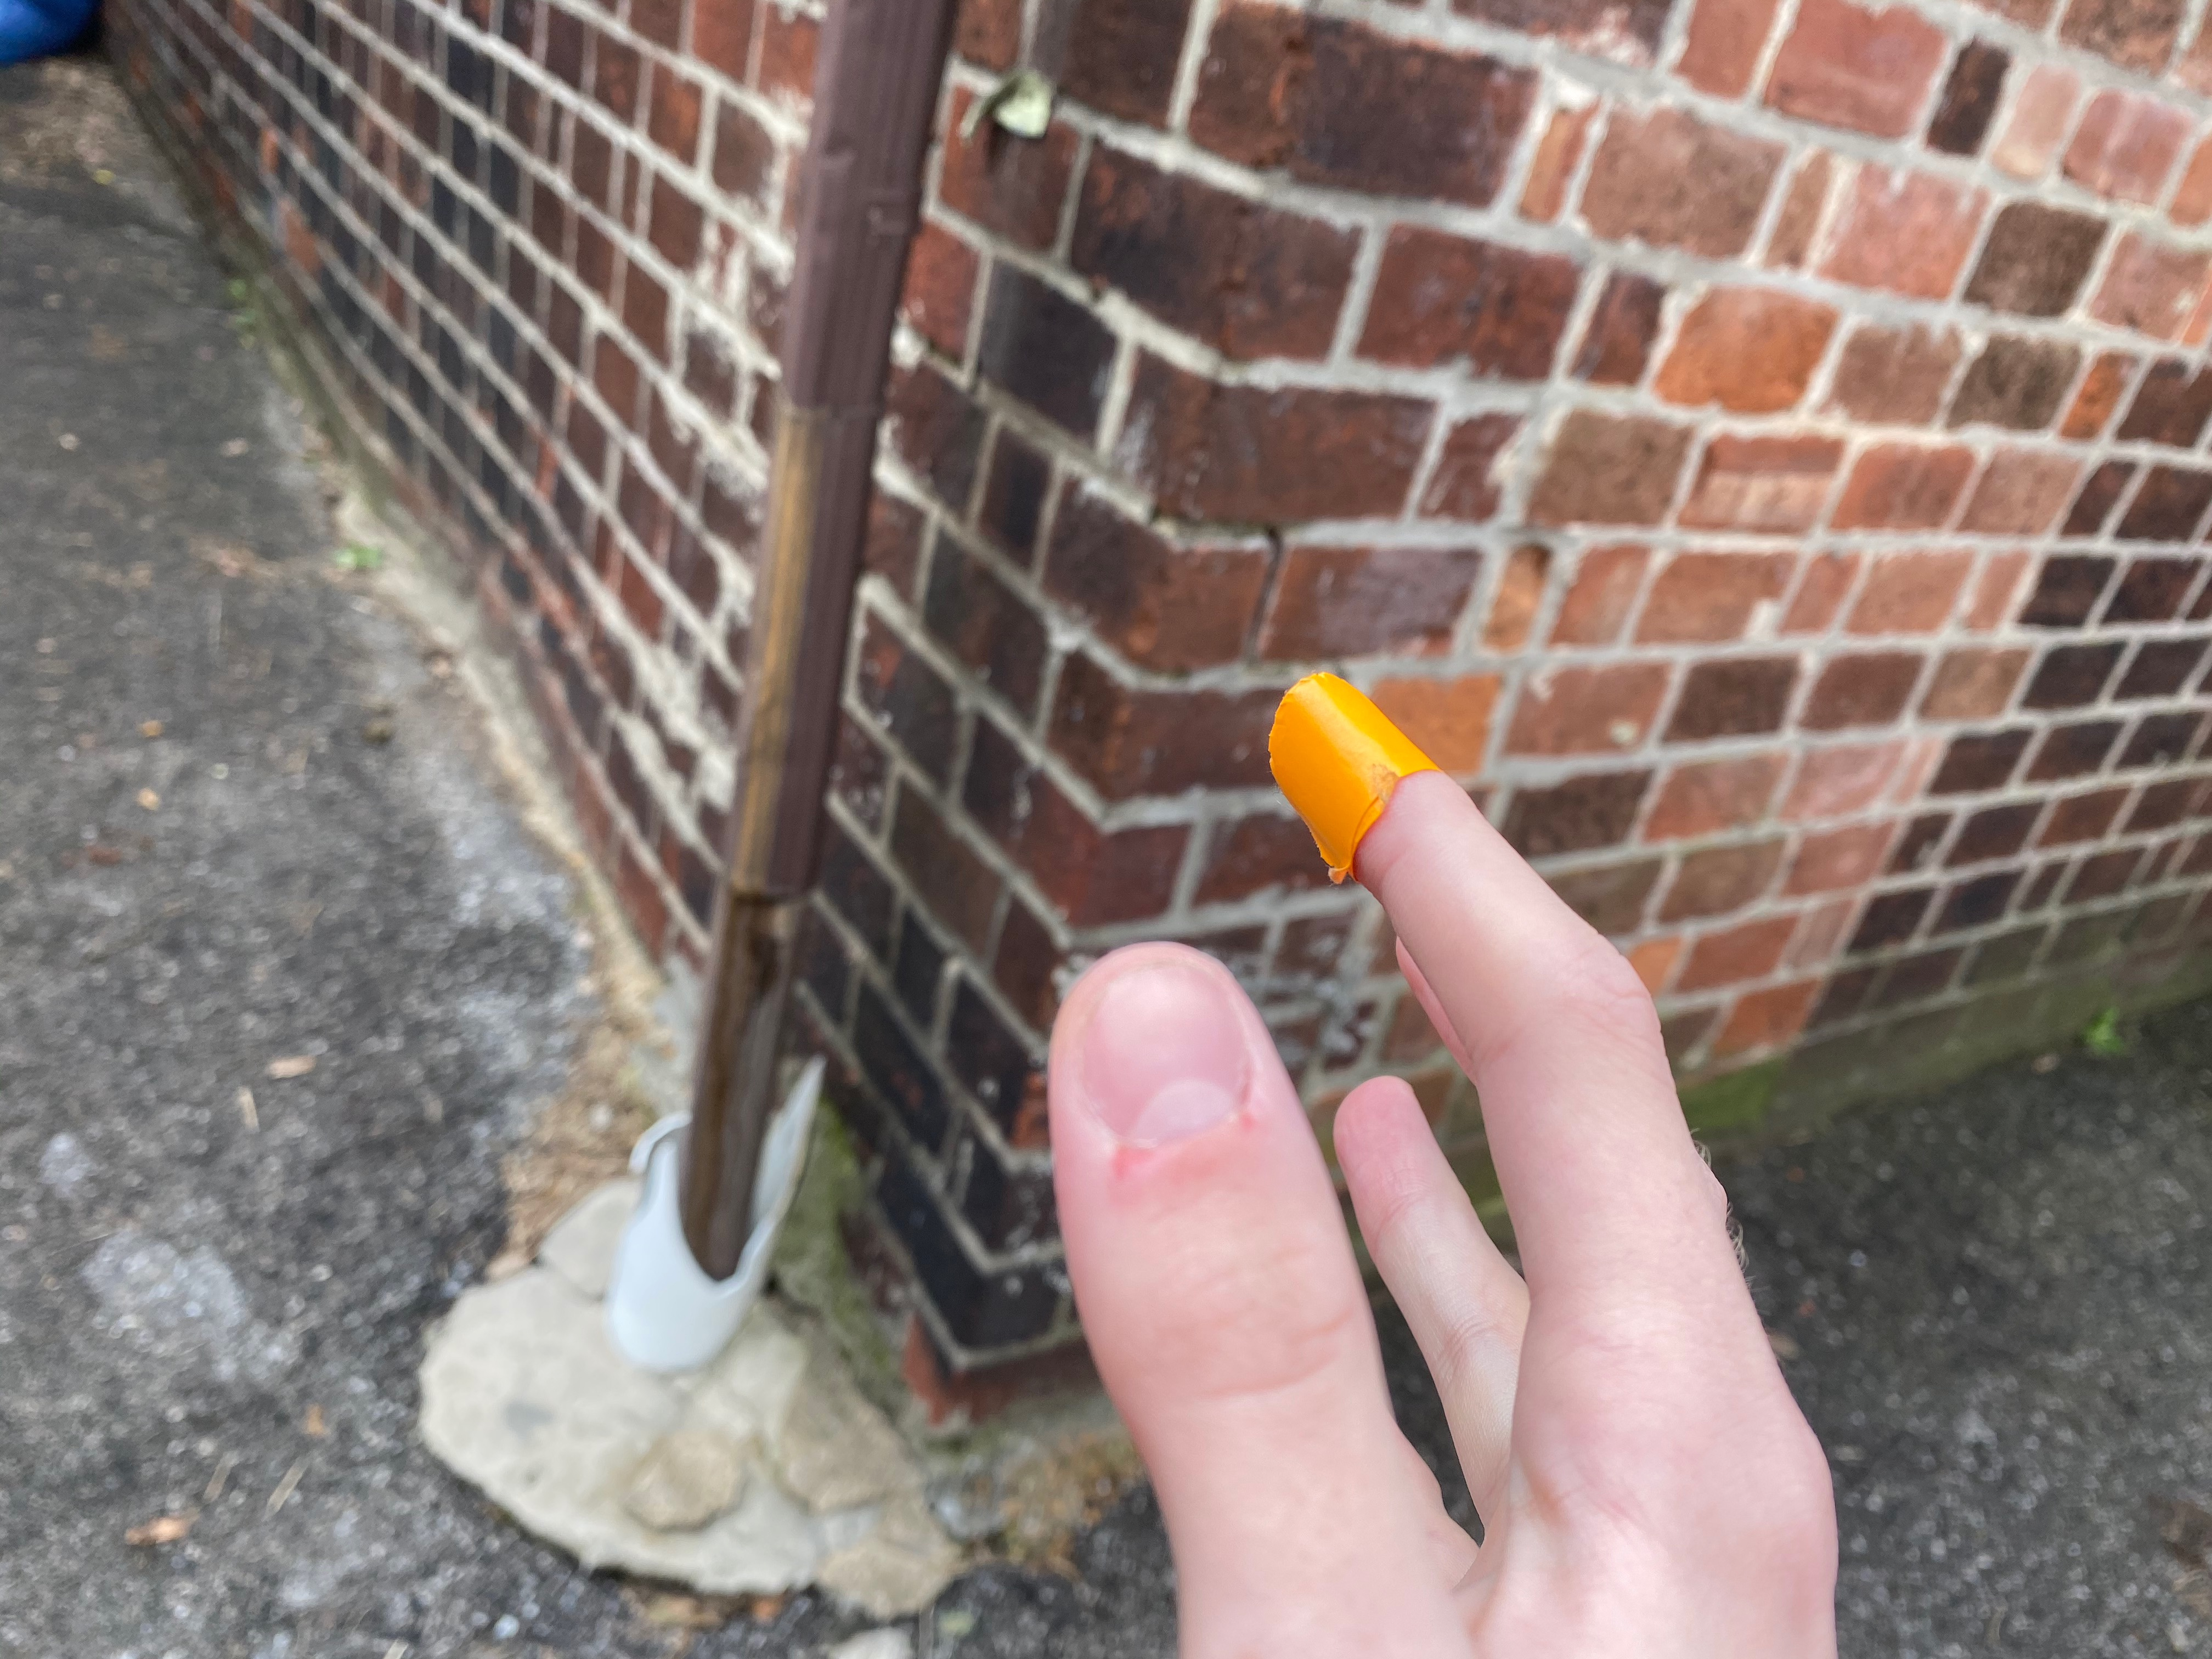fingertip: (1226, 659, 1446, 884)
